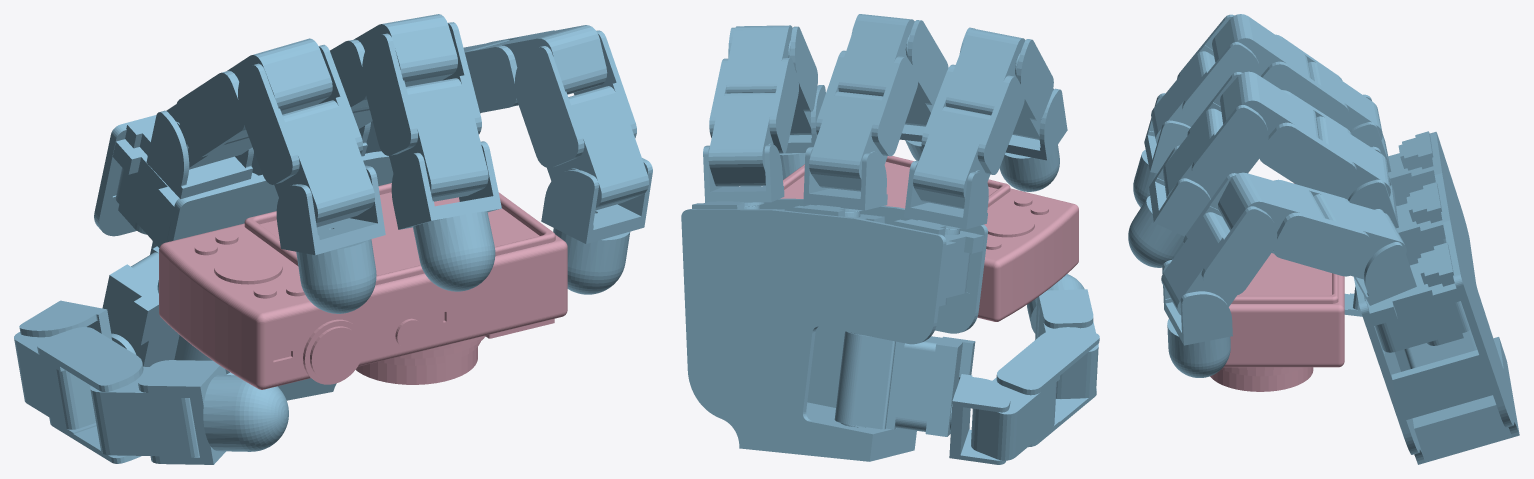
3 views of the same model, side by side, from view 1: azimuth 30°, elevation 25°; view 2: azimuth 150°, elevation 25°; view 3: azimuth 270°, elevation 25° (orthographic). The views are drawn at different scales.
Visible parts, largest first — view 1: world; view 2: world; view 3: world.
Boxes of the visible parts, x1,y1,x2,y2 form: world: (14,14,652,464); world: (681,14,1099,464); world: (1128,14,1519,464).
Bounding box in the file's own units: 0.1781 × 0.1598 × 0.1505.
